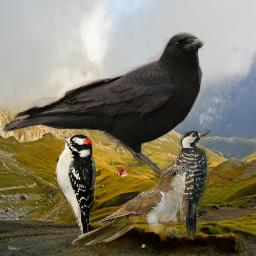Crow: (2, 32, 204, 178)
Cuckoo: (71, 161, 196, 245)
Woodpecker: (162, 130, 213, 246), (53, 134, 96, 243)
